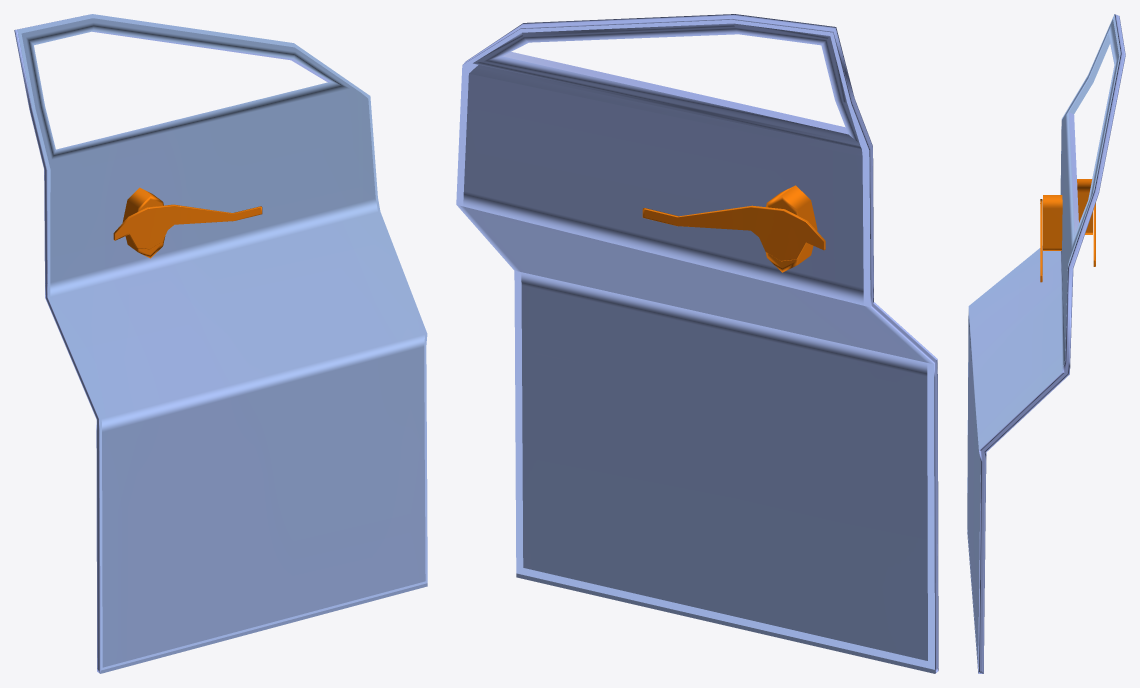
Rendered from PortaTrasEsquerdaCarro.fbx.
3 views of the same model, side by side, from view 1: azimuth 30°, elevation 25°; view 2: azimuth 150°, elevation 25°; view 3: azimuth 270°, elevation 25° (orthographic). The views are drawn at different scales.
Visible parts, largest first — view 1: PortaTrasEsquerdaCarro; view 2: PortaTrasEsquerdaCarro; view 3: PortaTrasEsquerdaCarro.
Part boxes in pixels (x1,y1,x2,y2): PortaTrasEsquerdaCarro: [14, 14, 427, 673]; PortaTrasEsquerdaCarro: [456, 14, 938, 673]; PortaTrasEsquerdaCarro: [967, 14, 1125, 673].
Size of the model in its own units: 61.3 by 102 by 28.45.
